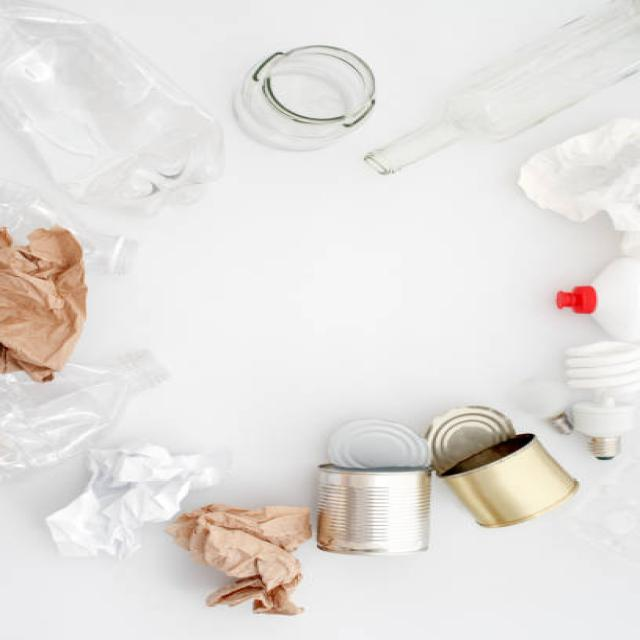glass: (235, 38, 381, 156)
metal: (318, 418, 590, 558)
plastic: (3, 7, 223, 274)
